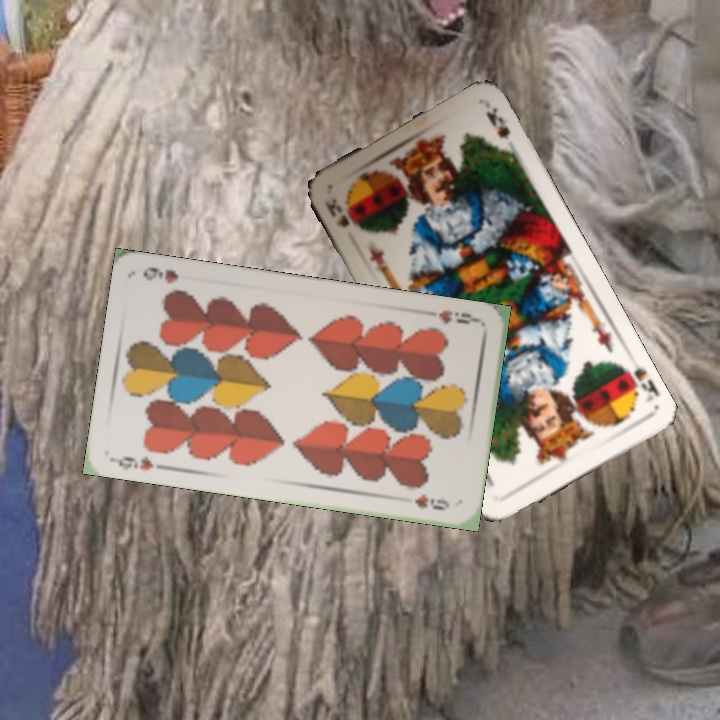H9: (435, 306, 483, 327), (109, 452, 156, 473)
SK: (615, 362, 662, 406), (321, 193, 352, 230)
